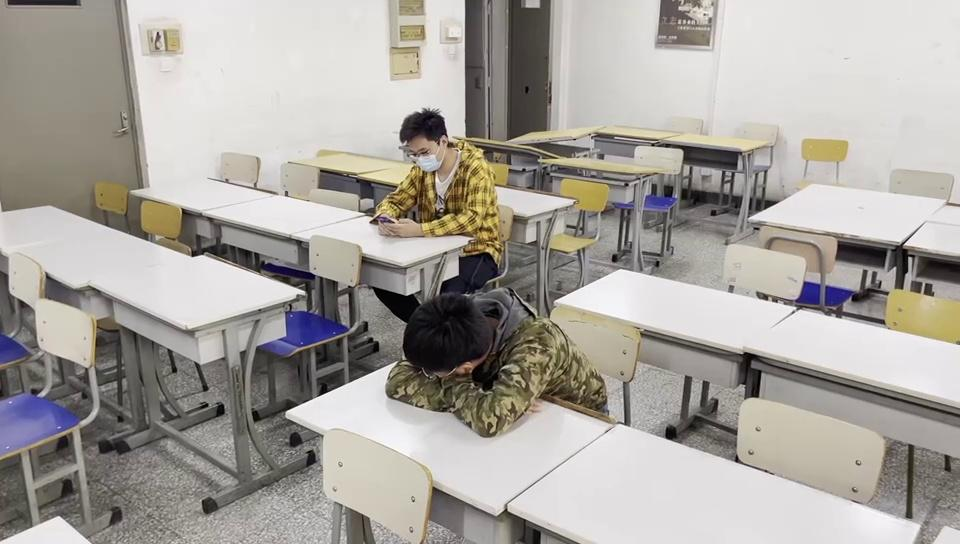phone: (367, 114, 496, 240)
sleep: (388, 292, 553, 430)
